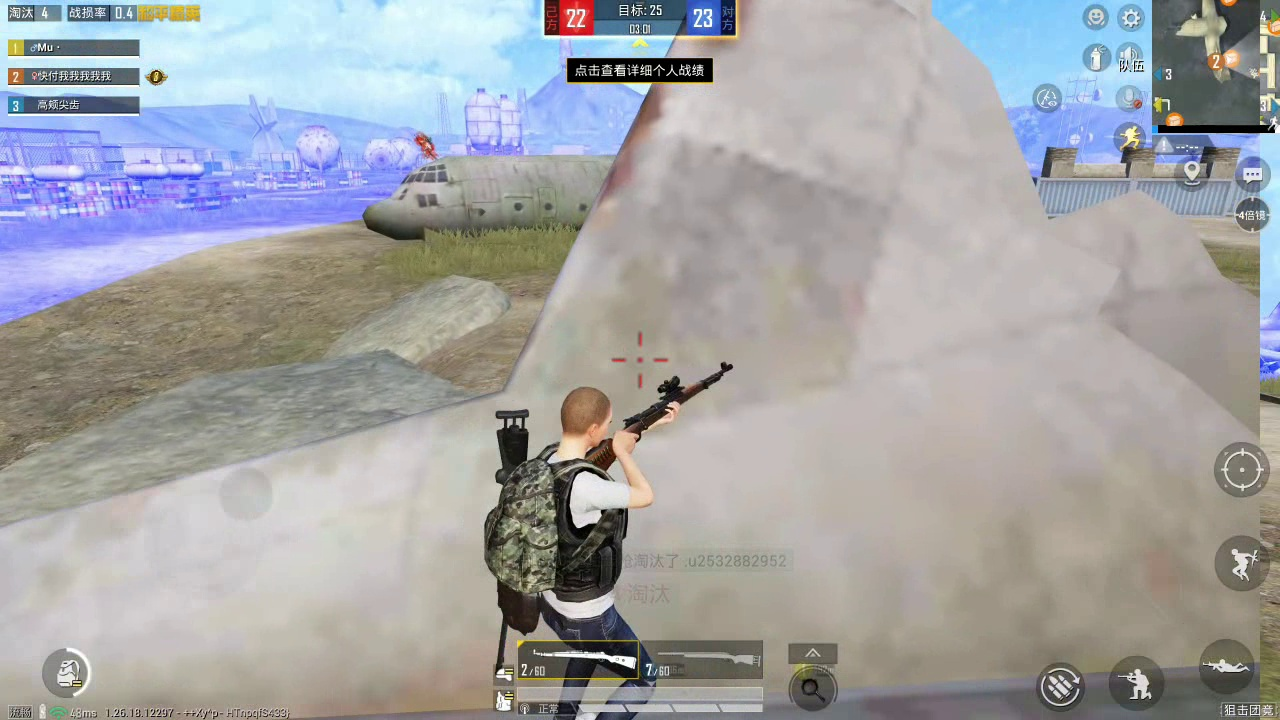enemy: (412, 128, 440, 159)
